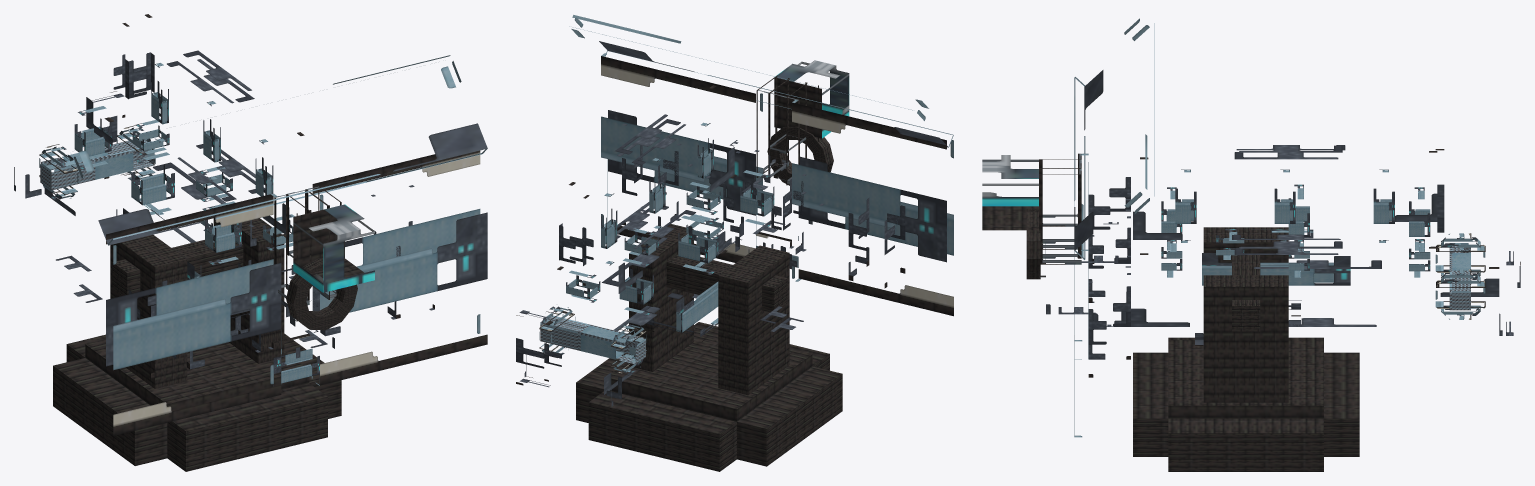
The model's file is ballista.obj.
3 renders of one model, left to right at view 1: azimuth 30°, elevation 25°; view 2: azimuth 150°, elevation 25°; view 3: azimuth 270°, elevation 25°, orthographic. The views are drawn at different scales.
Parts seen in each view (by area): view 1: MAIMBALLISTAE16, BASE2, MAIMBALLISTAE18, BASE1, MAIMBALLISTAE43, MAIMBALLISTAE17, BASE5, BASE4, MAIMBALLISTAE21, BASE6, MAIMBALLISTAE42, MAIMBALLISTAE44 (+16 smaller); view 2: BASE2, MAIMBALLISTAE16, MAIMBALLISTAE18, BASE5, BASE1, BASE4, MAIMBALLISTAE43, MAIMBALLISTAE21, BASE6, MAIMBALLISTAE17, MAIMBALLISTAE44, MAIMBALLISTAE42 (+22 smaller); view 3: BASE2, BASE4, BASE1, MAIMBALLISTAE43, MAIMBALLISTAE25, MAIMBALLISTAE17, BASE5, MAIMBALLISTAE1, MAIMBALLISTAE44, BASE6, MAIMBALLISTAE21, MAIMBALLISTAE42 (+11 smaller).
Boxes of the visible parts, <box> form: MAIMBALLISTAE16: <box>106,193,281,435</box>; BASE2: <box>66,334,327,471</box>; MAIMBALLISTAE18: <box>312,150,487,385</box>; BASE1: <box>53,333,341,465</box>; MAIMBALLISTAE43: <box>293,204,374,292</box>; MAIMBALLISTAE17: <box>73,55,487,245</box>; BASE5: <box>110,234,187,388</box>; BASE4: <box>213,218,284,363</box>; MAIMBALLISTAE21: <box>40,138,154,190</box>; BASE6: <box>112,240,243,295</box>; MAIMBALLISTAE42: <box>286,258,357,330</box>; MAIMBALLISTAE44: <box>86,23,289,246</box>; BASE2: <box>588,322,829,471</box>; MAIMBALLISTAE16: <box>792,100,953,316</box>; MAIMBALLISTAE18: <box>601,53,762,262</box>; BASE5: <box>718,245,789,395</box>; BASE1: <box>576,353,842,466</box>; BASE4: <box>629,224,693,371</box>; MAIMBALLISTAE43: <box>774,60,849,138</box>; MAIMBALLISTAE21: <box>540,315,645,363</box>; BASE6: <box>666,254,787,312</box>; MAIMBALLISTAE17: <box>569,15,953,147</box>; MAIMBALLISTAE44: <box>583,124,770,293</box>; MAIMBALLISTAE42: <box>767,126,833,185</box>; BASE2: <box>1133,340,1359,456</box>; BASE4: <box>1203,275,1288,402</box>; BASE1: <box>1168,337,1323,471</box>; MAIMBALLISTAE43: <box>982,155,1038,230</box>; MAIMBALLISTAE25: <box>1202,229,1350,300</box>; MAIMBALLISTAE17: <box>1074,18,1154,259</box>; BASE5: <box>1203,227,1288,262</box>; MAIMBALLISTAE1: <box>1131,260,1499,326</box>; MAIMBALLISTAE44: <box>1133,145,1444,239</box>; BASE6: <box>1232,255,1260,331</box>; MAIMBALLISTAE21: <box>1449,243,1470,310</box>; MAIMBALLISTAE42: <box>1026,208,1040,279</box>.
Bounding box in the file's own units: 4.12 × 3.21 × 4.75.
